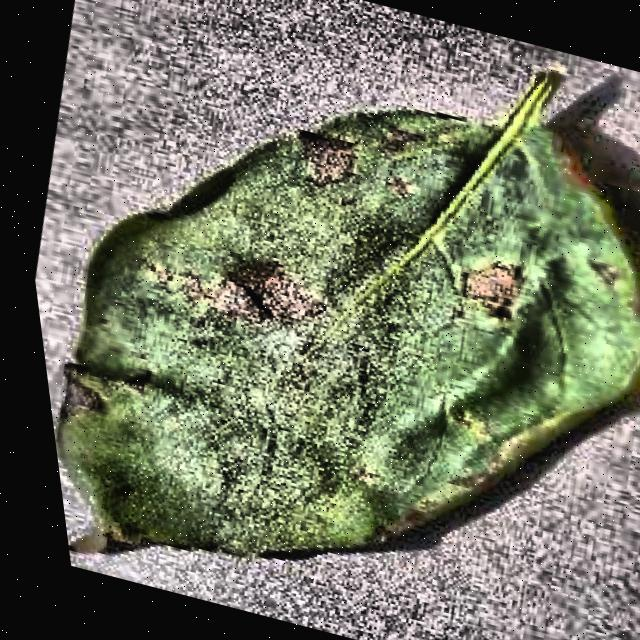Potato_leaf_early_blight: (56, 76, 640, 556)
